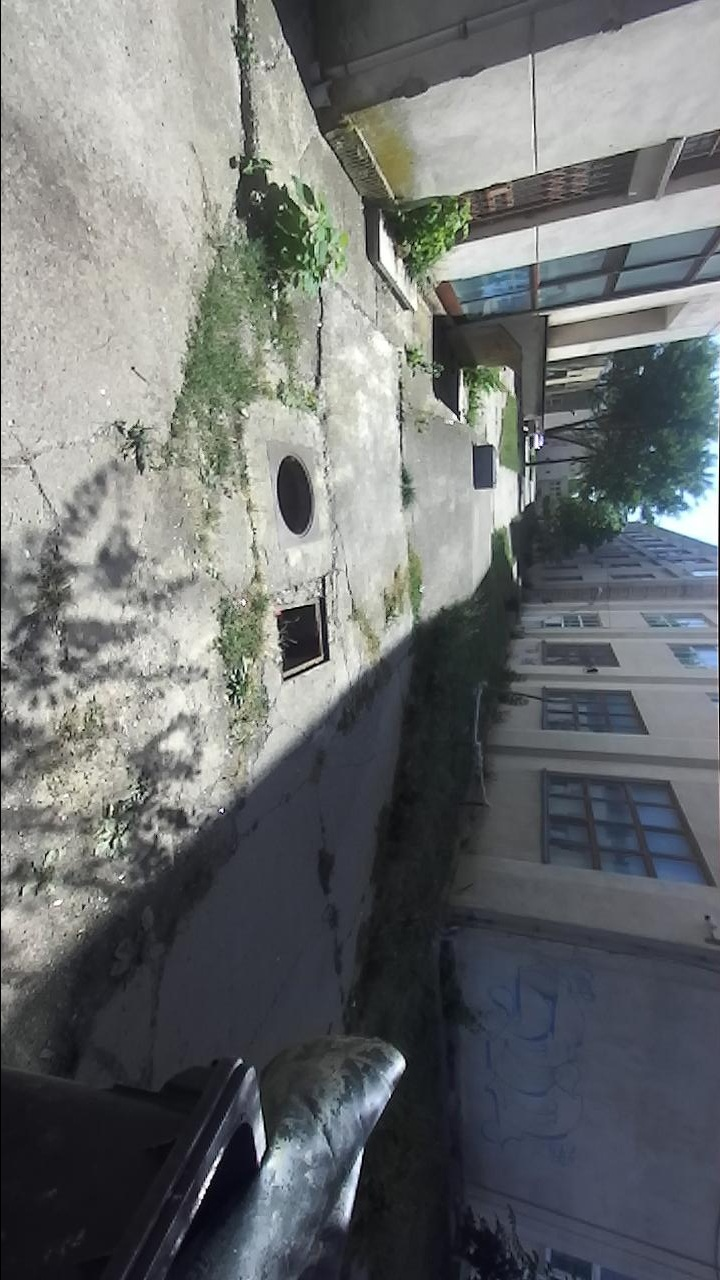drain: (275, 593, 333, 686), (272, 446, 322, 545)
